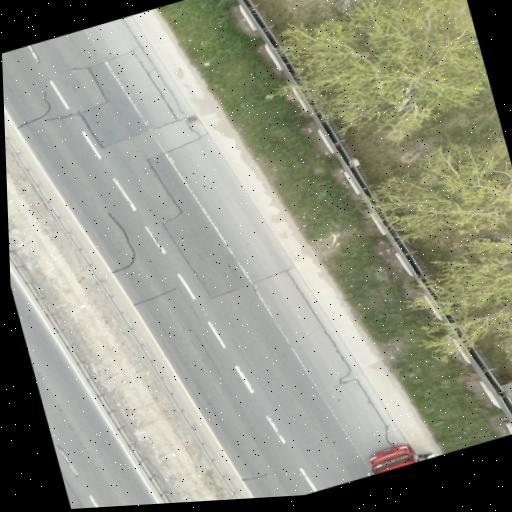person: (424, 453, 435, 460)
truck: (368, 445, 428, 474)
